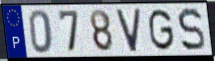0: (27, 8, 54, 55)
7: (58, 9, 81, 54)
8: (89, 9, 114, 53)
G: (148, 7, 176, 53)
S: (176, 6, 207, 53)
V: (114, 7, 143, 54)
